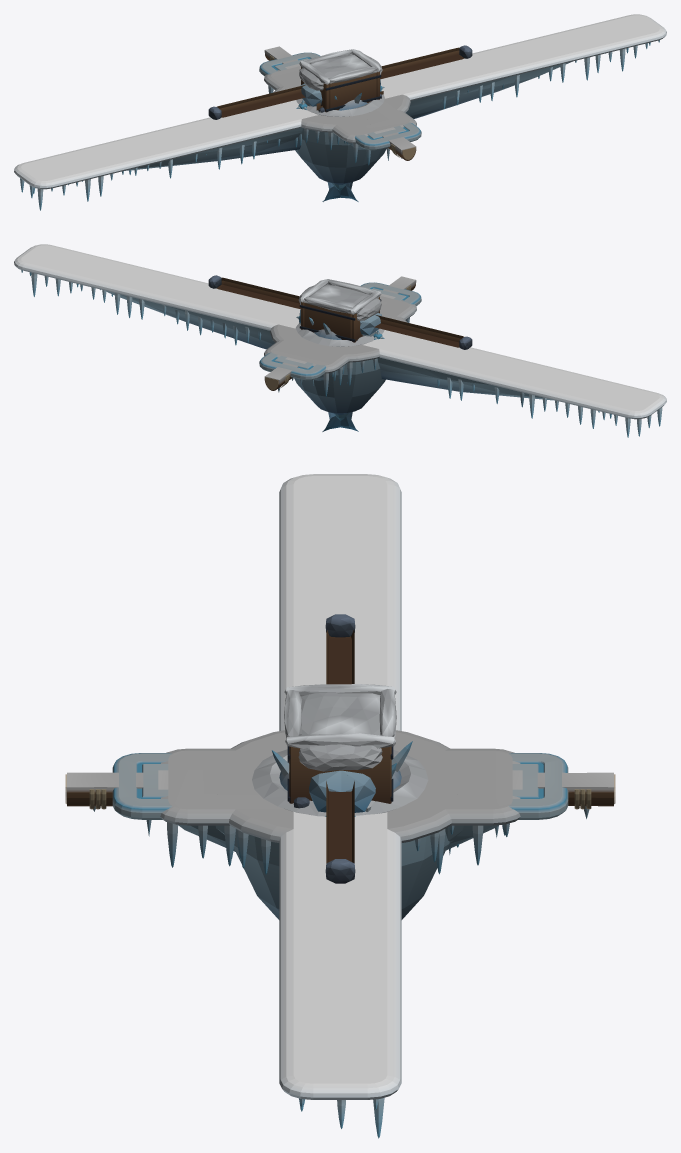
Rendered from glacier-1-CLNXAXuN.glb.
3 renders of one model, top to bottom at view 1: azimuth 30°, elevation 25°; view 2: azimuth 150°, elevation 25°; view 3: azimuth 270°, elevation 25°, orthographic. The views are drawn at different scales.
Visible parts, largest first — view 1: block_64x2x5#0, disc_12x1.5#0, hopper_4x3#0, mount_12.7#0, block_7x2x16#0, block_6x2x20_ice#0, spout_5x2#0, beam_1.5x1.5x24#0, geyserVent_3#0, support_0_round#0; view 2: block_64x2x5#0, disc_12x1.5#0, hopper_4x3#0, mount_12.7#0, block_7x2x16#0, block_6x2x20_ice#0, spout_5x2#0, geyserVent_3#0, beam_1.5x1.5x24#0, support_0_round#0; view 3: block_64x2x5#0, block_7x2x16#0, disc_12x1.5#0, block_6x2x20_ice#0, spout_5x2#0, hopper_4x3#0, mount_12.7#0, beam_1.5x1.5x24#0, geyserVent_3#0, beam_3x2x10#0, beam_3x1.5x12#0.
Boxes of the visible parts, x1,y1,x2,y2 form: block_64x2x5#0: (14, 14, 666, 210); disc_12x1.5#0: (273, 86, 410, 184); hopper_4x3#0: (299, 49, 381, 112); mount_12.7#0: (208, 45, 472, 119); block_7x2x16#0: (264, 66, 416, 165); block_6x2x20_ice#0: (259, 52, 421, 150); spout_5x2#0: (299, 54, 382, 112); beam_1.5x1.5x24#0: (264, 46, 416, 160); geyserVent_3#0: (296, 93, 384, 116); support_0_round#0: (322, 182, 358, 201); block_64x2x5#0: (14, 244, 666, 437); disc_12x1.5#0: (270, 316, 407, 414); hopper_4x3#0: (299, 279, 381, 342); mount_12.7#0: (208, 275, 472, 349); block_7x2x16#0: (264, 296, 416, 396); block_6x2x20_ice#0: (259, 282, 421, 380); spout_5x2#0: (298, 285, 381, 340); geyserVent_3#0: (295, 317, 384, 346); beam_1.5x1.5x24#0: (264, 276, 416, 392); support_0_round#0: (322, 412, 358, 431); block_64x2x5#0: (279, 474, 401, 1138); block_7x2x16#0: (160, 748, 520, 867); disc_12x1.5#0: (229, 730, 458, 919); block_6x2x20_ice#0: (112, 753, 568, 851); spout_5x2#0: (298, 693, 382, 812); hopper_4x3#0: (284, 684, 396, 803); mount_12.7#0: (325, 614, 355, 883); beam_1.5x1.5x24#0: (65, 772, 615, 836); geyserVent_3#0: (252, 741, 428, 816); beam_3x2x10#0: (226, 765, 454, 794); beam_3x1.5x12#0: (203, 765, 477, 854).
Bounding box in the file's own units: 64.36 × 13.92 × 24.12.
